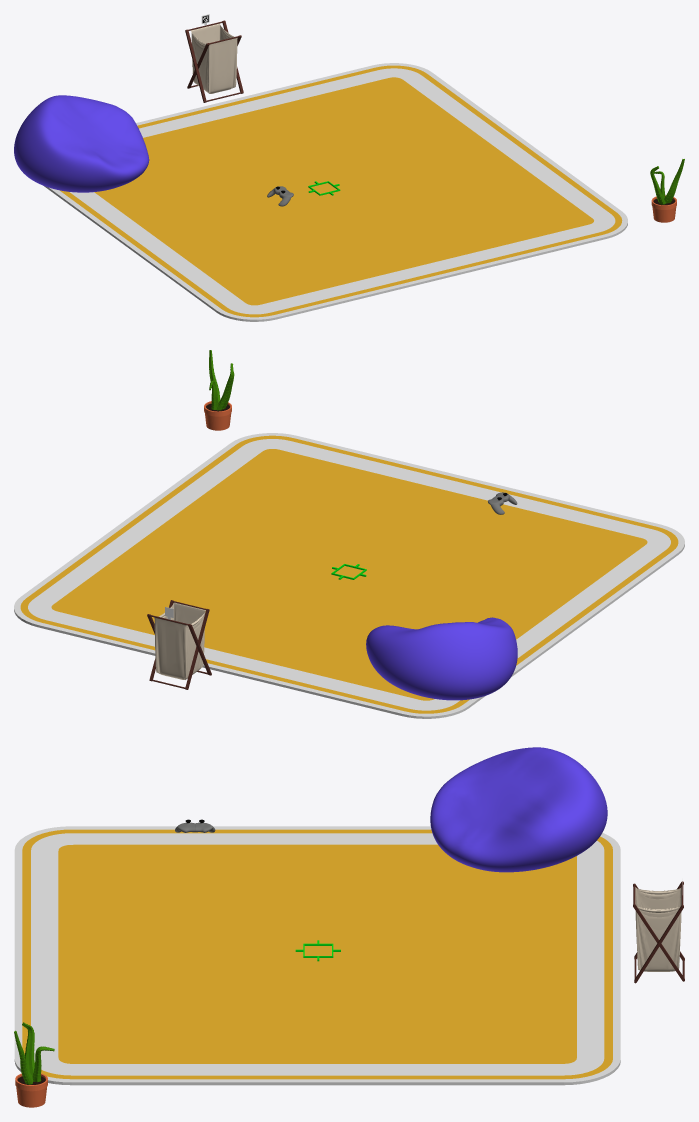
Rendered from decor.glb.
3 views of the same model, one above another, from view 1: azimuth 30°, elevation 25°; view 2: azimuth 150°, elevation 25°; view 3: azimuth 270°, elevation 25° (orthographic). The views are drawn at different scales.
Parts seen in each view (by area): view 1: rug.001, beanbag, hamper, flowerpot; view 2: rug.001, beanbag, hamper, flowerpot; view 3: rug.001, beanbag, hamper, flowerpot.
Boxes of the visible parts, x1,y1,x2,y2 form: rug.001: (44, 63, 627, 321); beanbag: (14, 95, 149, 192); hamper: (185, 20, 243, 102); flowerpot: (650, 159, 684, 222); rug.001: (14, 433, 684, 718); beanbag: (366, 617, 517, 700); hamper: (147, 600, 211, 689); flowerpot: (204, 350, 234, 430); rug.001: (14, 826, 620, 1085); beanbag: (430, 747, 607, 872); hamper: (633, 881, 684, 983); flowerpot: (14, 1022, 54, 1107).
Bounding box in the file's own units: 4.59 × 0.6584 × 4.43.
Materials: 12 (1 with a texture image).
